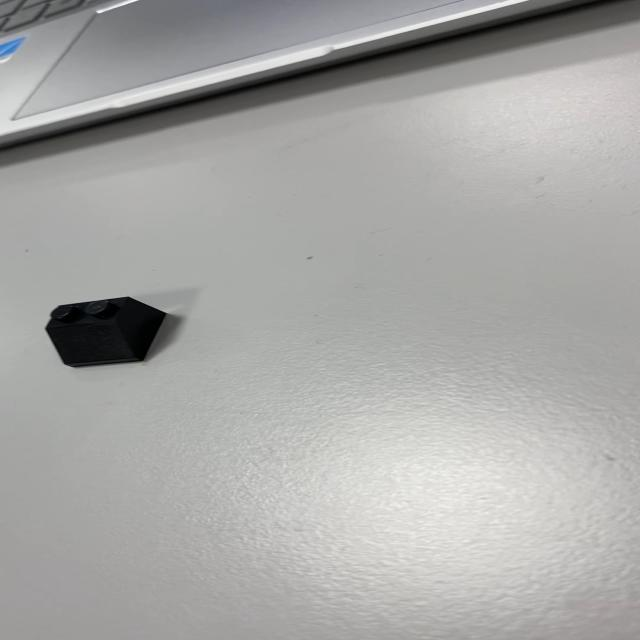P2x2x1: (46, 294, 176, 368)
